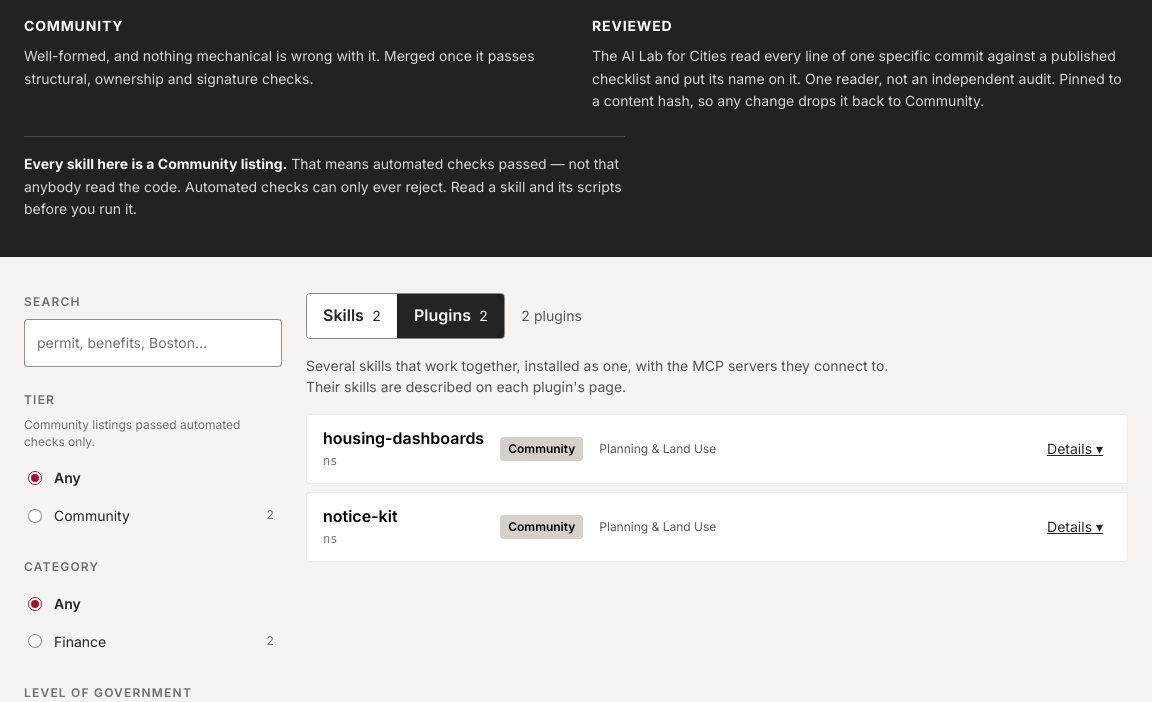
Test case: search and counts on the browse page (#299) › says no plugin matches, with a way to clear, the way the skill grid does
(page scrolled)
Check: the element named "plugins" is shown, box [306,354,1128,562]
Type "housingzzqq" into the search field labelled "Search" at (153, 343), box [24,319,282,367]
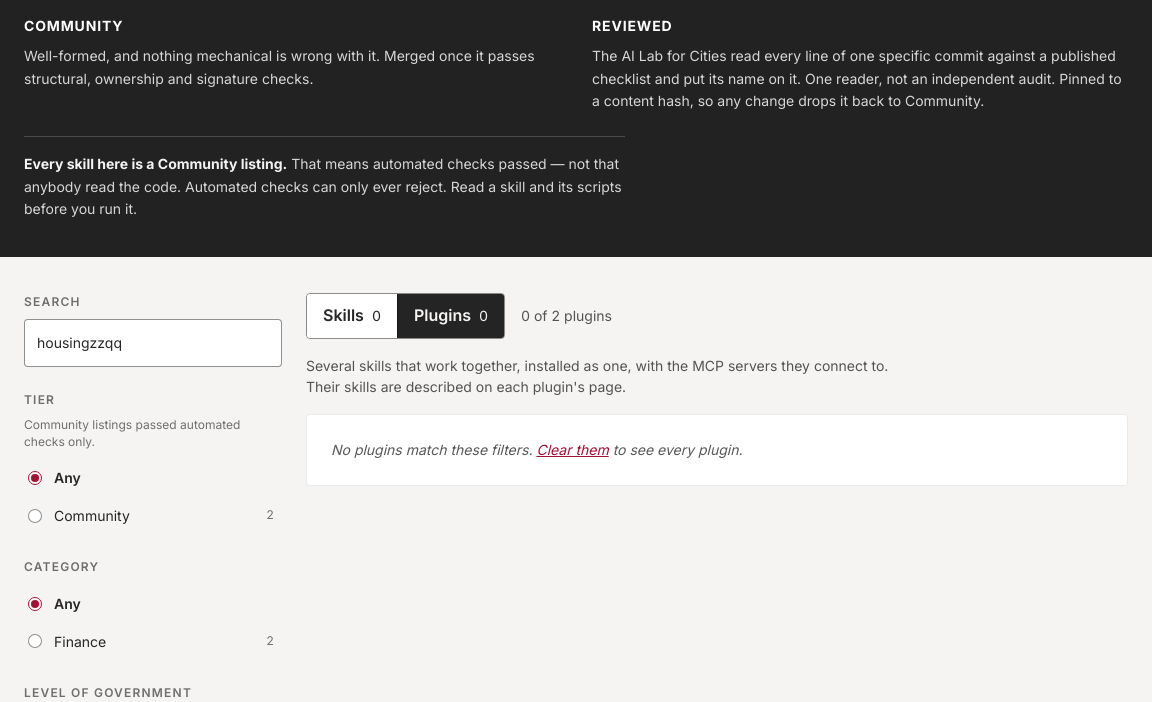
Check: the text "No plugins match these filters" is shown, box [331,441,536,458]
Check: no list items are shown
Click the button "Clear them" at (573, 450), box [536,439,609,461]
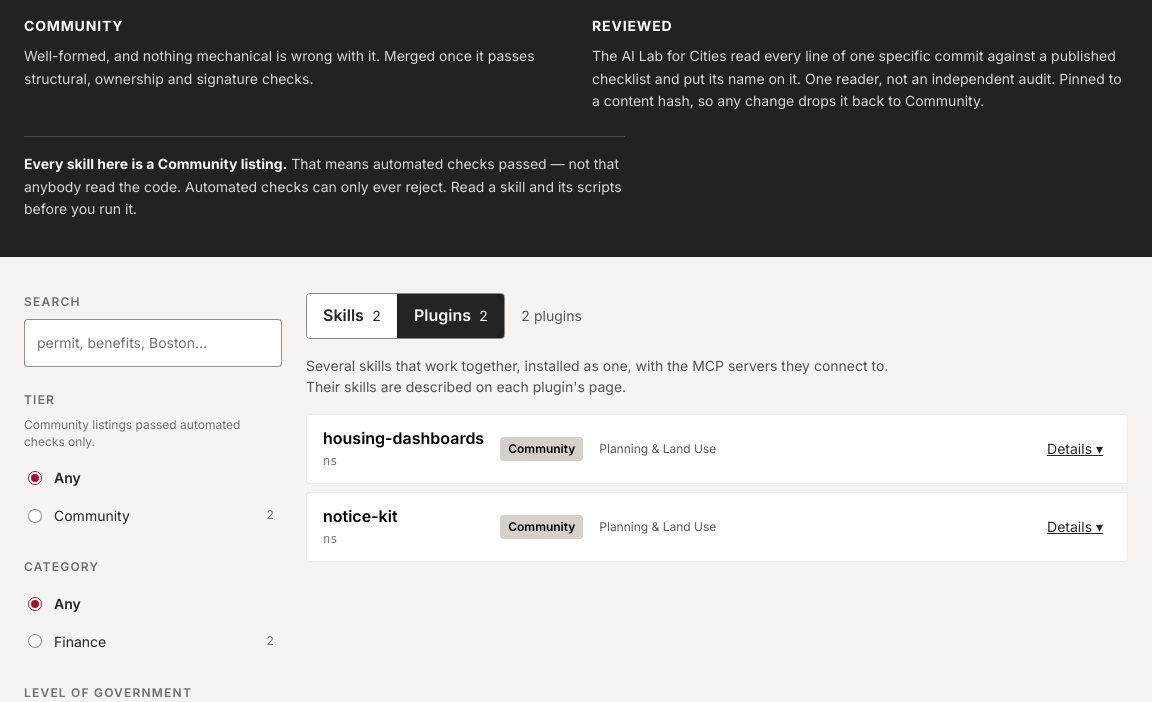
Check: the number of list items is 2, box [306,414,1128,484]; [306,492,1128,562]
